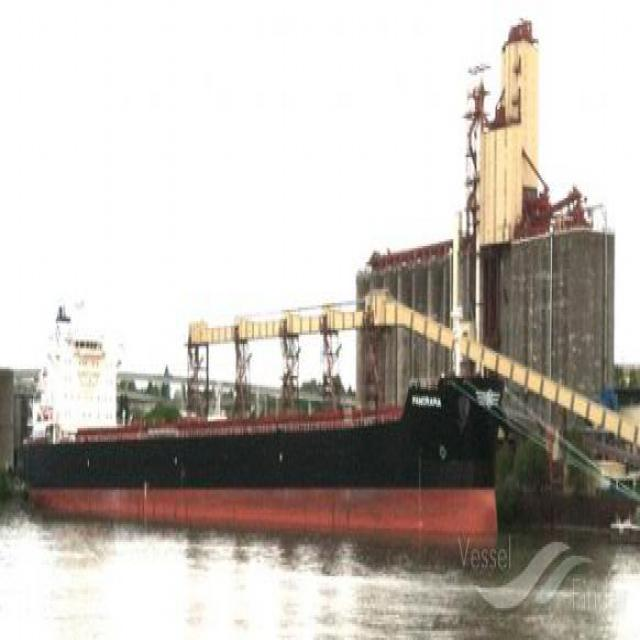OCR: (406, 383, 445, 412)
